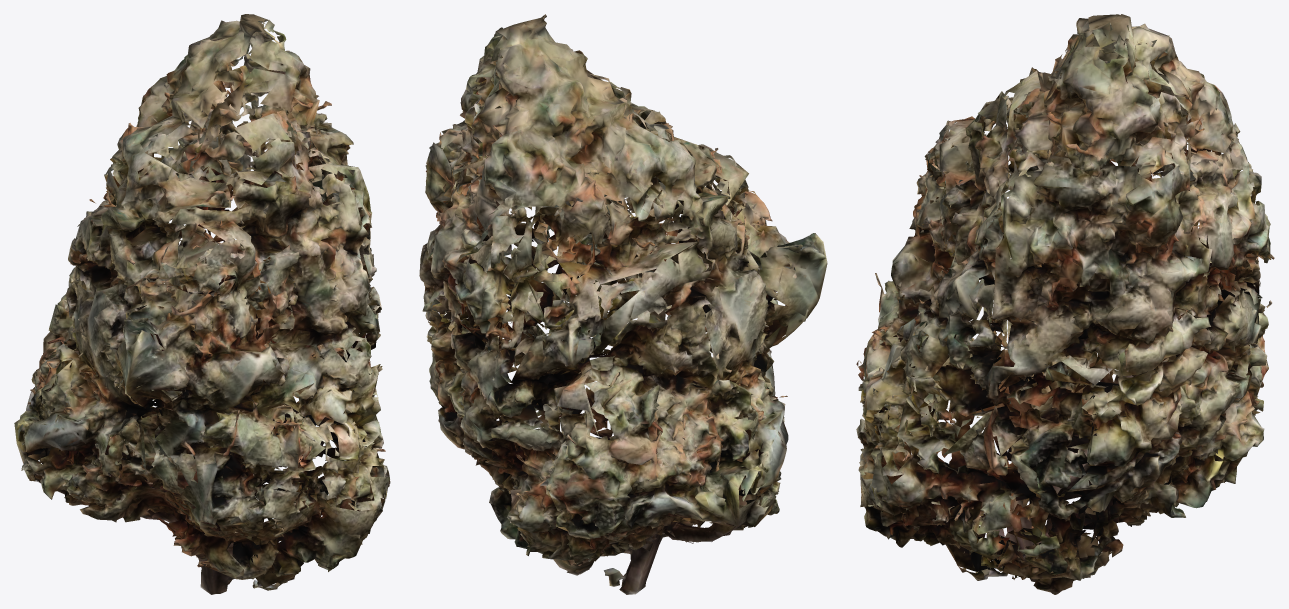
The model's file is bud.glb.
3 views of the same model, side by side, from view 1: azimuth 30°, elevation 25°; view 2: azimuth 150°, elevation 25°; view 3: azimuth 270°, elevation 25° (orthographic). The views are drawn at different scales.
Visible parts, largest first — view 1: meshNode; view 2: meshNode; view 3: meshNode.
Boxes of the visible parts, x1,y1,x2,y2 form: meshNode: [14, 14, 390, 594]; meshNode: [419, 14, 827, 594]; meshNode: [856, 14, 1274, 594].
Size of the model in its own units: 19.81 by 31.73 by 20.08.
Materials: 1 (1 with a texture image).
